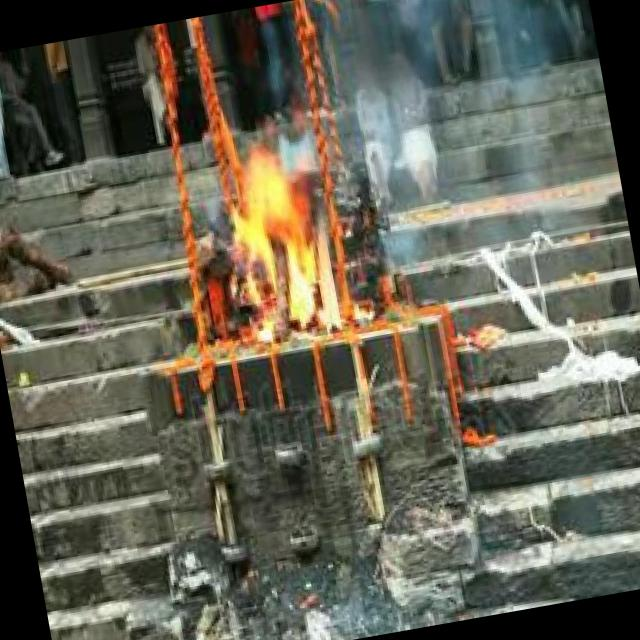Fire: (210, 130, 355, 351)
